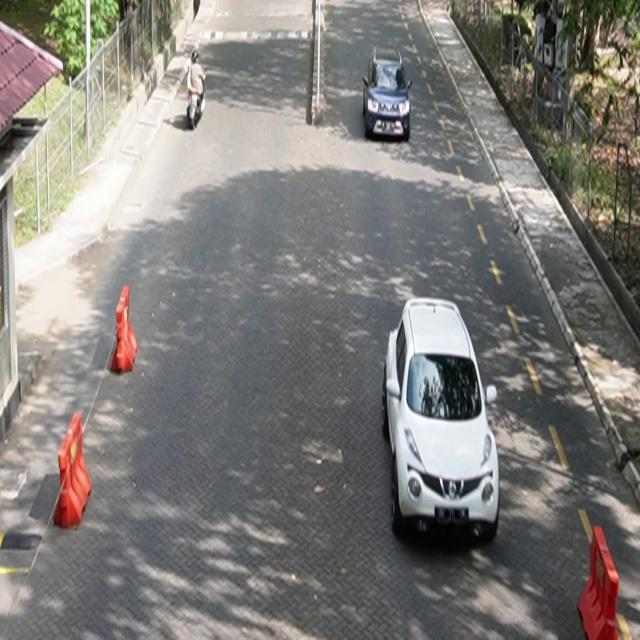car: (382, 297, 501, 543), (363, 46, 413, 142)
